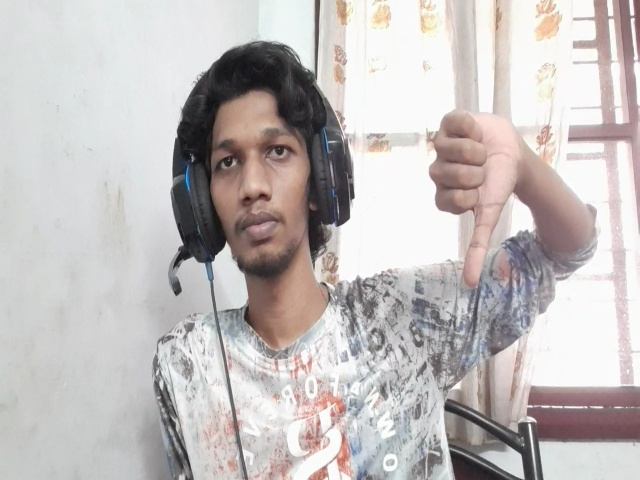ThumbsDown: (430, 108, 518, 287)
